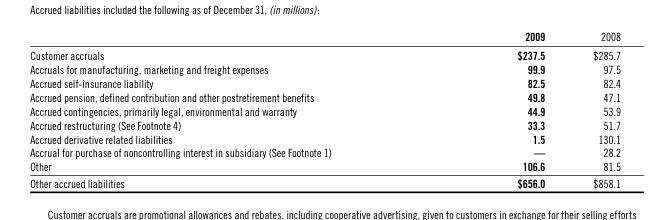table: (29, 29, 620, 189)
table column: (29, 29, 423, 189), (423, 29, 568, 189), (568, 29, 620, 189)
table column header: (29, 29, 620, 45)
table row: (29, 45, 620, 62), (29, 29, 620, 45), (29, 159, 620, 174), (29, 174, 620, 189), (29, 75, 620, 89), (29, 89, 620, 103), (29, 103, 620, 117), (29, 117, 620, 131), (29, 131, 620, 145), (29, 145, 620, 159), (29, 62, 620, 75)
